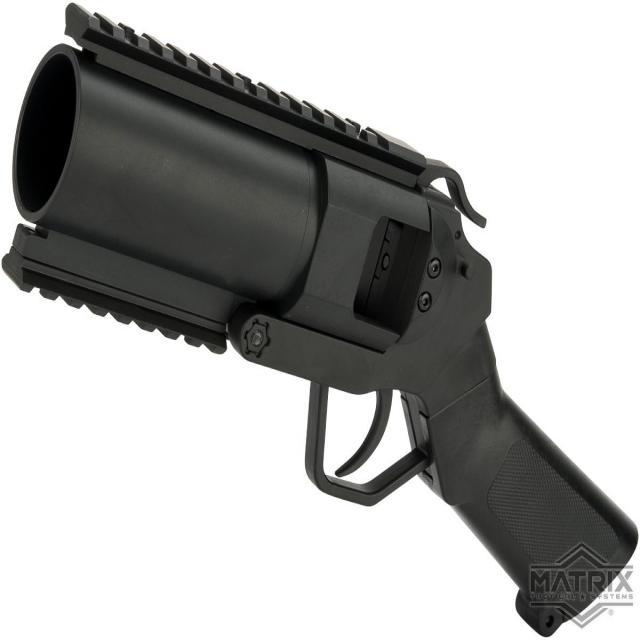rocket launcher: (6, 2, 640, 640)
